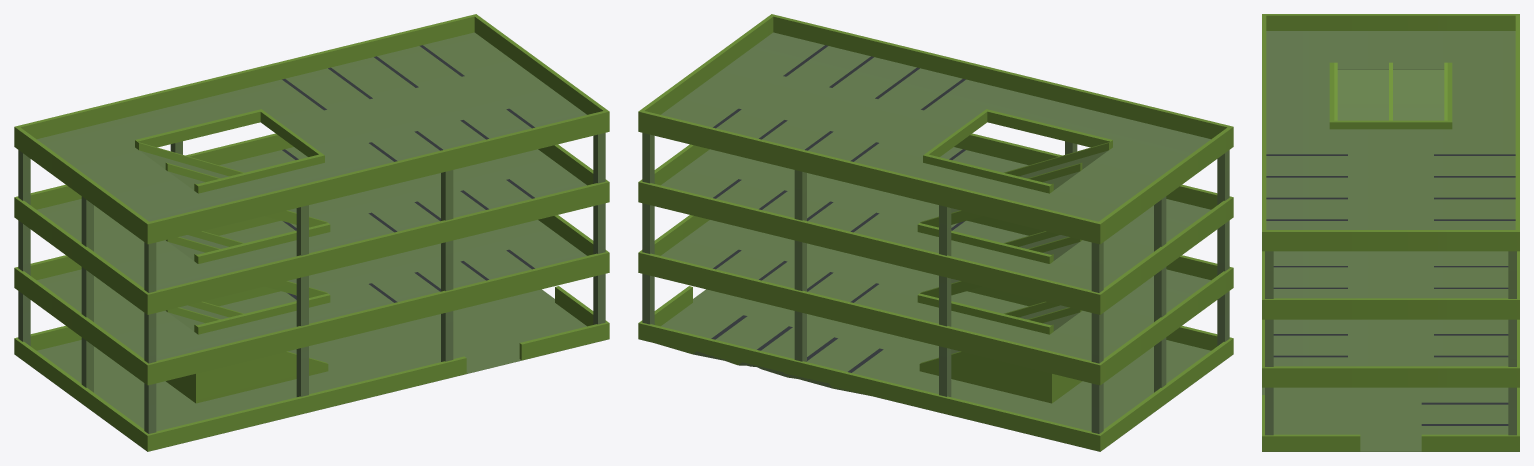
File: ParkingZone_01.fbx
3 renders of one model, left to right at view 1: azimuth 30°, elevation 25°; view 2: azimuth 150°, elevation 25°; view 3: azimuth 270°, elevation 25°, orthographic. The views are drawn at different scales.
Parts seen in each view (by area): view 1: ParkingZone_01; view 2: ParkingZone_01; view 3: ParkingZone_01.
Part boxes in pixels (box(x1,y1,x2,y2)): ParkingZone_01: box(14, 14, 609, 451); ParkingZone_01: box(638, 14, 1233, 451); ParkingZone_01: box(1262, 14, 1519, 451).
Size of the model in its own units: 24 by 11.4 by 12.
